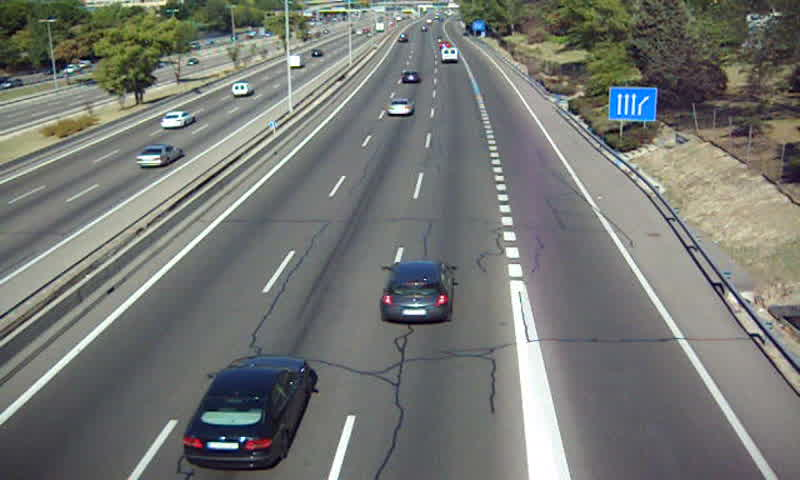car: (182, 354, 319, 470), (380, 260, 453, 324), (385, 97, 414, 118), (401, 70, 420, 87)
van: (442, 46, 458, 65)
